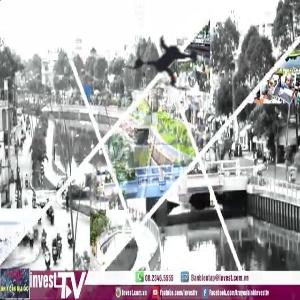drone: (104, 2, 231, 129)
